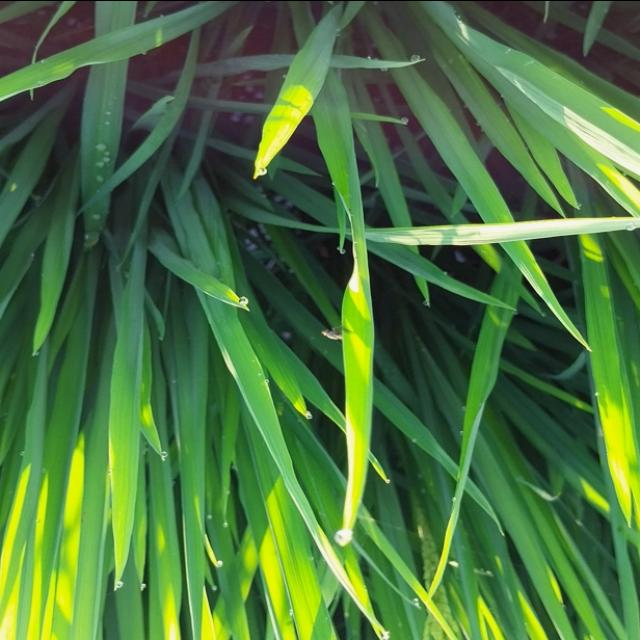healthy: (303, 316, 358, 352)
